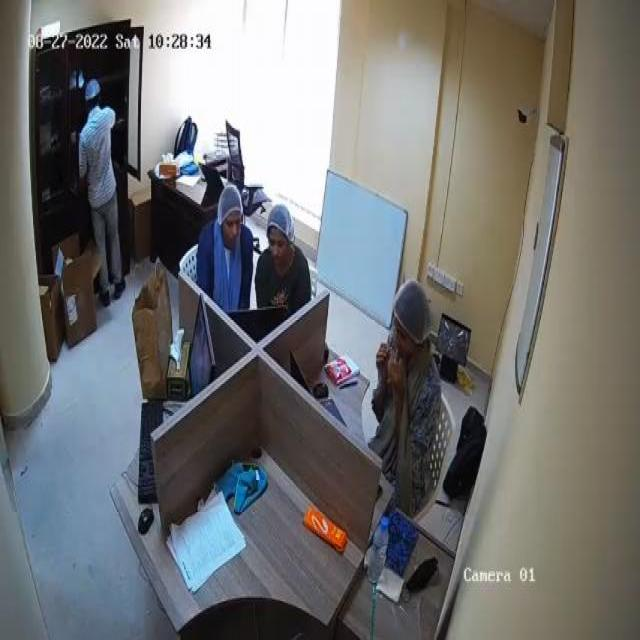hairnet: (394, 277, 434, 341), (270, 205, 295, 243), (219, 185, 242, 224), (85, 77, 98, 102)
